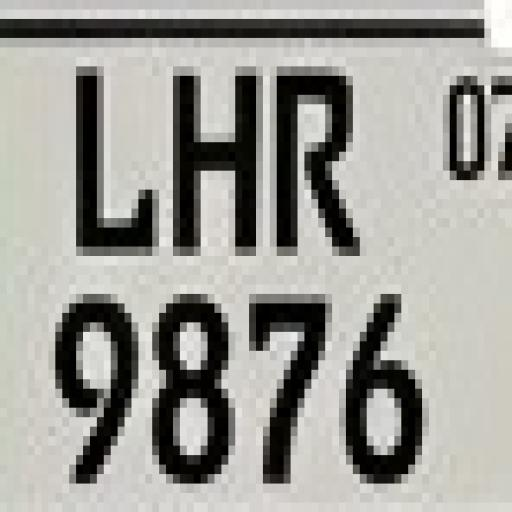6: (342, 294, 430, 493)
7: (244, 281, 334, 493)
8: (153, 286, 238, 509)
9: (46, 289, 142, 490)
H: (166, 67, 259, 245)
L: (71, 70, 162, 262)
R: (270, 77, 359, 256)
